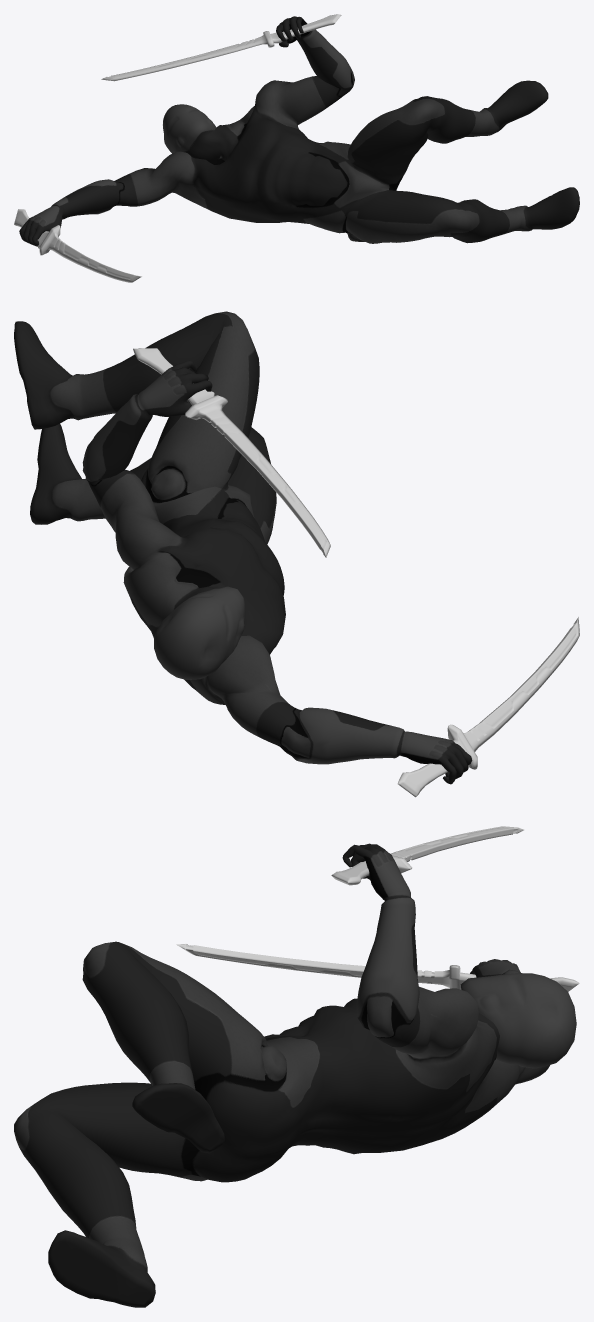
3 views of the same model, one above another, from view 1: azimuth 30°, elevation 25°; view 2: azimuth 150°, elevation 25°; view 3: azimuth 270°, elevation 25° (orthographic). The views are drawn at different scales.
Parts seen in each view (by area): view 1: Cyborg_Ninja_Killer, Sword_l, Sword_l001; view 2: Cyborg_Ninja_Killer, Sword_l, Sword_l001; view 3: Cyborg_Ninja_Killer, Sword_l001, Sword_l.
Part boxes in pixels (<box>): Cyborg_Ninja_Killer: <box>19,16,579,246</box>; Sword_l: <box>101,14,341,81</box>; Sword_l001: <box>14,209,141,282</box>; Cyborg_Ninja_Killer: <box>14,311,472,784</box>; Sword_l: <box>133,348,330,557</box>; Sword_l001: <box>397,617,579,797</box>; Cyborg_Ninja_Killer: <box>14,843,576,1307</box>; Sword_l001: <box>176,944,579,991</box>; Sword_l: <box>331,826,523,885</box>.
Bounding box in the file's own units: 173 × 80.18 × 124.
